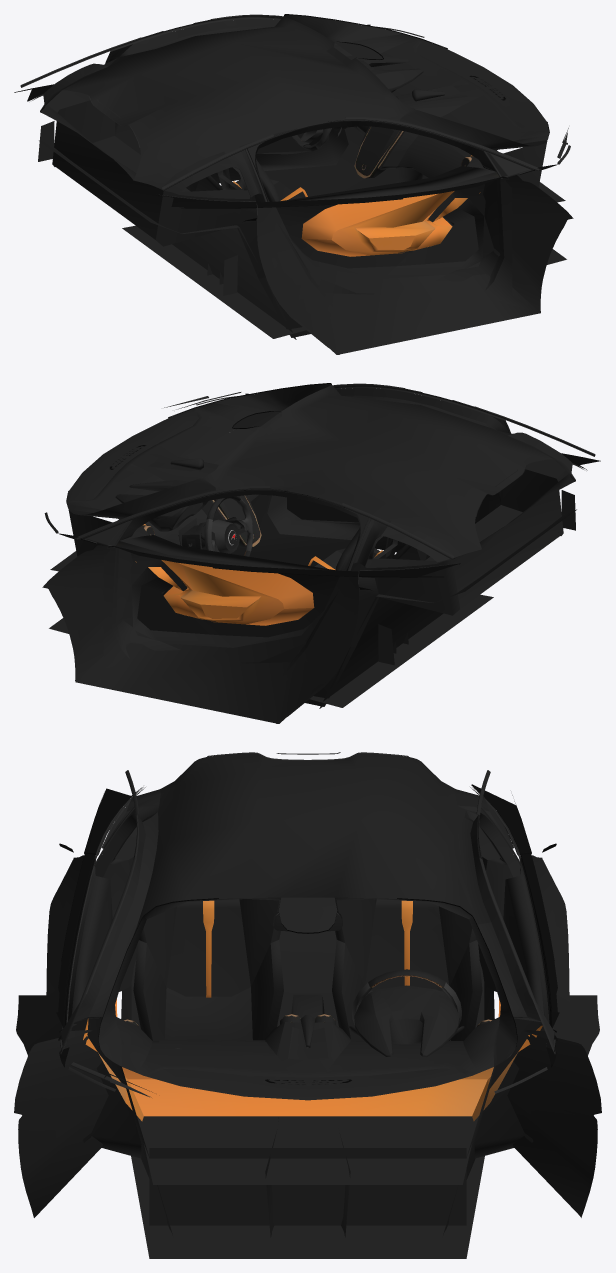
The picture shows the model from 3 angles, top to bottom: view 1: azimuth 30°, elevation 25°; view 2: azimuth 150°, elevation 25°; view 3: azimuth 270°, elevation 25°; orthographic projection. The views are drawn at different scales.
Visible parts, largest first — view 1: body; view 2: body; view 3: body.
Part boxes in pixels (box(x1,y1,x2,y2)): body: box(14, 14, 573, 354); body: box(42, 383, 600, 723); body: box(14, 752, 601, 1258).
Bounding box in the file's own units: 2.04 × 1.03 × 1.9.
5 materials, 1 textured.
